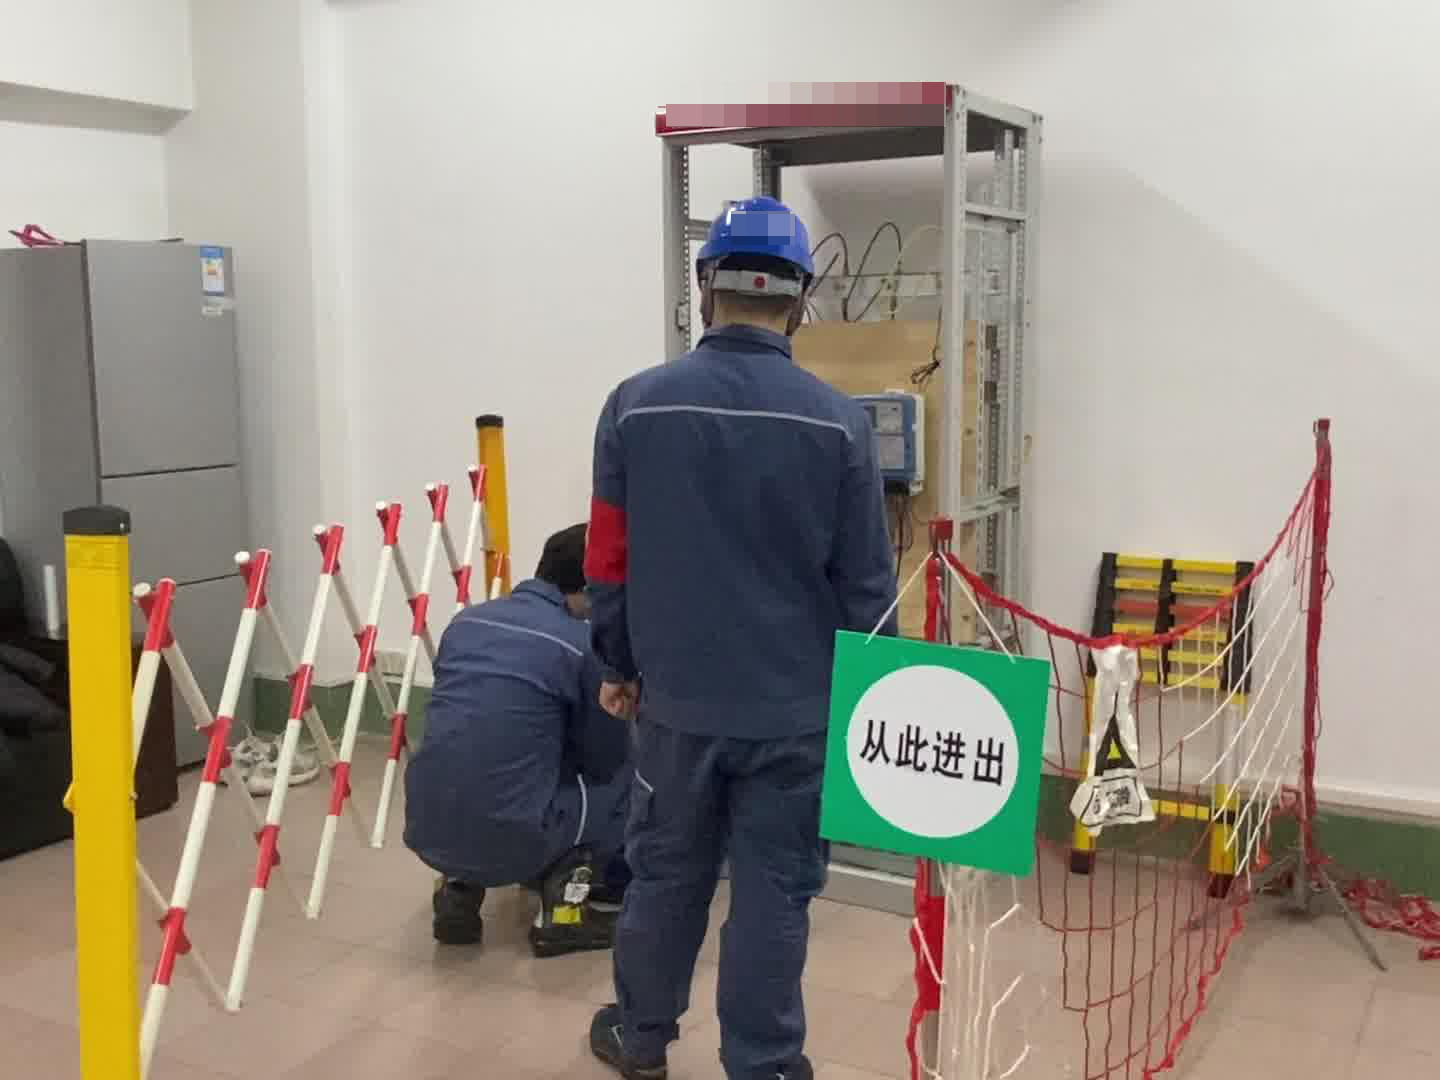badge: (582, 499, 631, 586)
downsuit: (610, 742, 833, 1080)
halt: (690, 195, 822, 336)
hand: (598, 675, 642, 721)
intosign: (814, 619, 1056, 877)
person: (572, 183, 905, 1080), (398, 519, 622, 962)
shoe: (526, 846, 612, 970)
unhalt: (530, 523, 591, 612)
upsuit: (579, 320, 900, 741), (400, 579, 604, 886)
